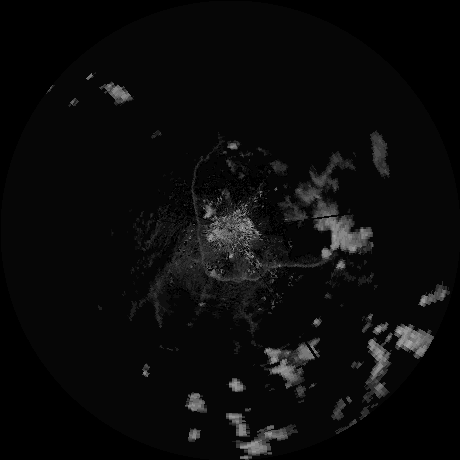frontgust: (206, 260, 322, 285), (190, 160, 208, 267)
